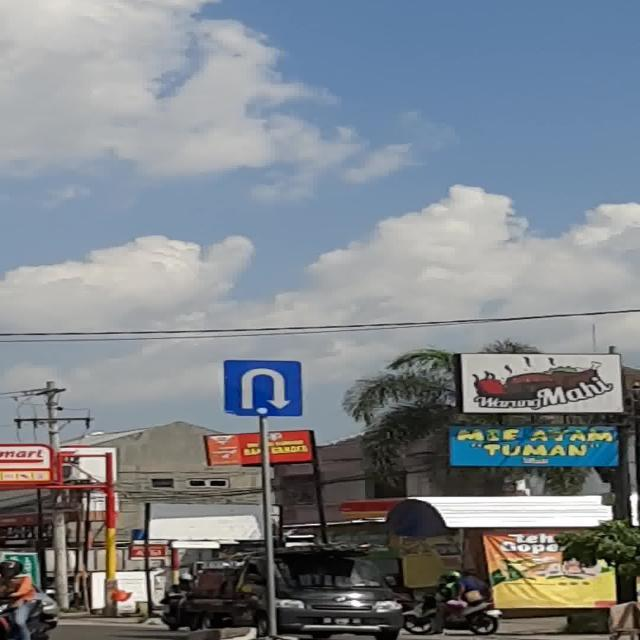Putar Balik: (224, 360, 302, 416)
